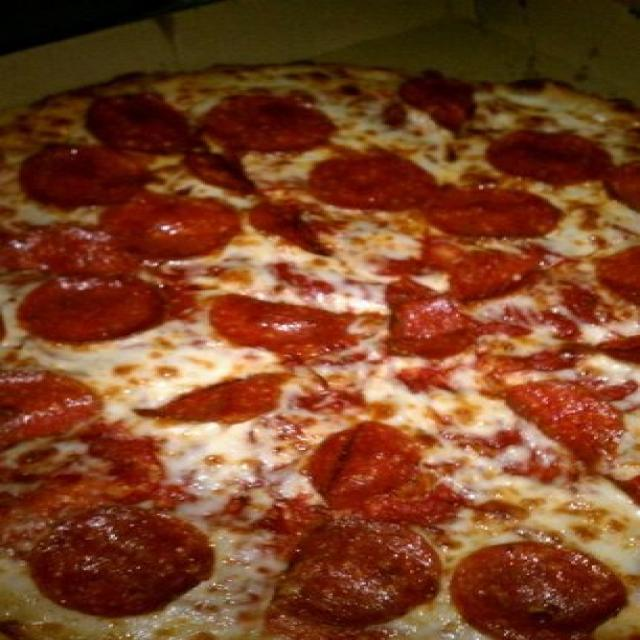Pepperoni: (43, 506, 206, 613), (448, 549, 621, 640), (270, 524, 434, 618), (79, 175, 246, 262), (503, 372, 640, 460), (16, 270, 166, 346), (307, 425, 431, 511), (209, 290, 349, 360), (0, 224, 146, 287), (358, 301, 491, 358), (0, 358, 90, 437), (151, 373, 285, 426), (18, 147, 145, 202), (436, 190, 563, 242), (318, 152, 434, 204), (399, 79, 500, 137), (422, 248, 540, 292), (491, 130, 600, 177), (220, 100, 322, 150), (246, 201, 336, 252), (98, 99, 182, 151), (188, 146, 259, 197), (599, 152, 637, 220), (613, 245, 640, 297), (589, 332, 640, 358)
Pizza: (2, 65, 637, 640)
